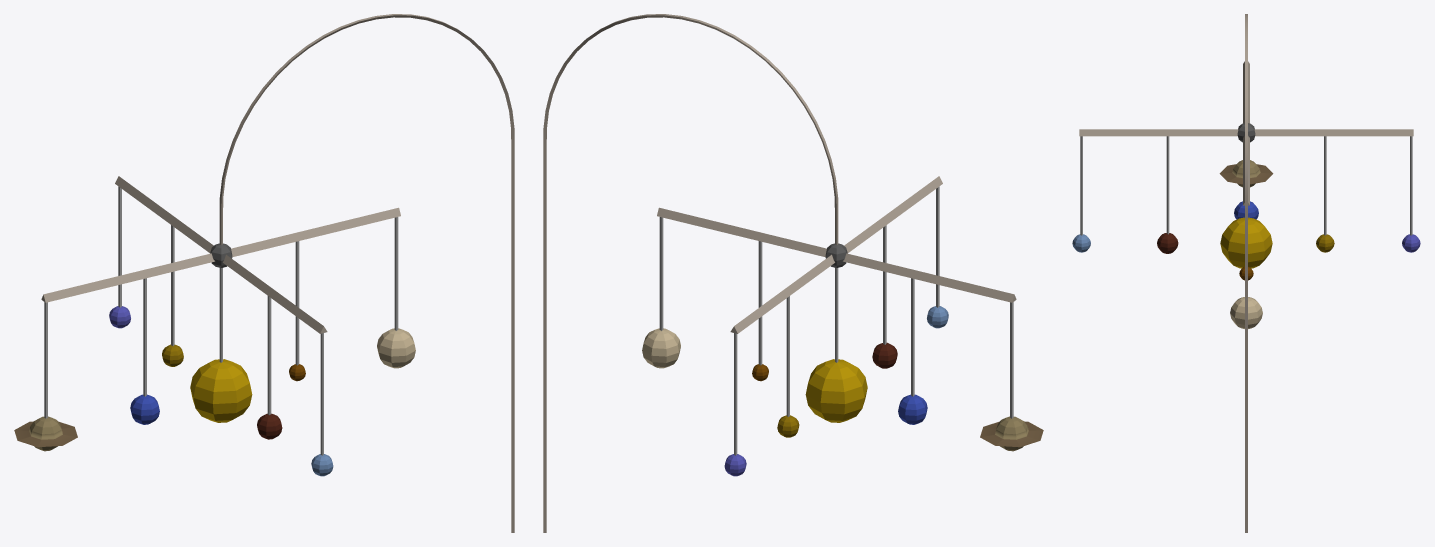
File: Mobile.fbx
The picture shows the model from 3 angles, left to right: view 1: azimuth 30°, elevation 25°; view 2: azimuth 150°, elevation 25°; view 3: azimuth 270°, elevation 25°; orthographic projection. The views are drawn at different scales.
Visible parts, largest first — view 1: pPrism1; view 2: pPrism1; view 3: pPrism1.
Part boxes in pixels (bbox=[...]): pPrism1: bbox=[14, 14, 514, 532]; pPrism1: bbox=[543, 14, 1043, 532]; pPrism1: bbox=[1072, 14, 1420, 532].
Bounding box in the file's own units: 112 × 118 × 83.2.
